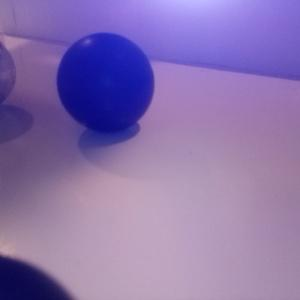alive_ball: (1, 40, 17, 105)
dead_ball: (56, 32, 154, 129), (1, 254, 80, 300)
